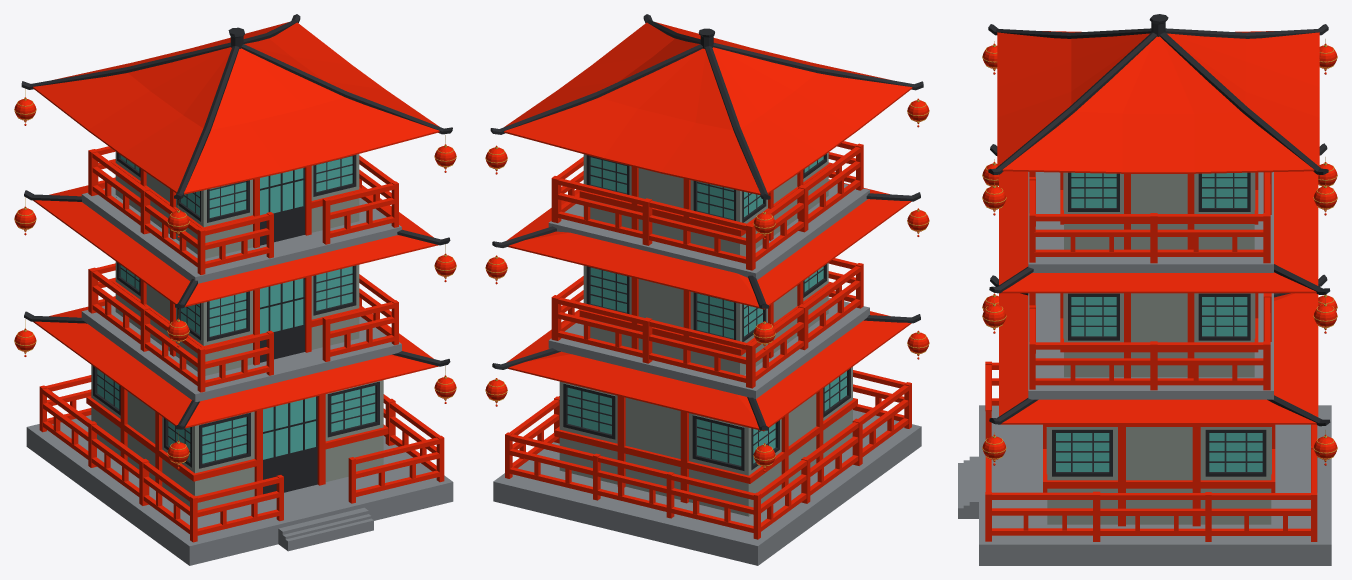
The model's file is Building_8.fbx.
The picture shows the model from 3 angles, left to right: view 1: azimuth 30°, elevation 25°; view 2: azimuth 150°, elevation 25°; view 3: azimuth 270°, elevation 25°; orthographic projection. The views are drawn at different scales.
Parts seen in each view (by area): view 1: Building_8; view 2: Building_8; view 3: Building_8.
Part boxes in pixels (box(x1,y1,x2,y2)): Building_8: box(14, 14, 456, 565); Building_8: box(485, 14, 929, 565); Building_8: box(958, 14, 1337, 565).
Bounding box in the file's own units: 470 × 692 × 498.
